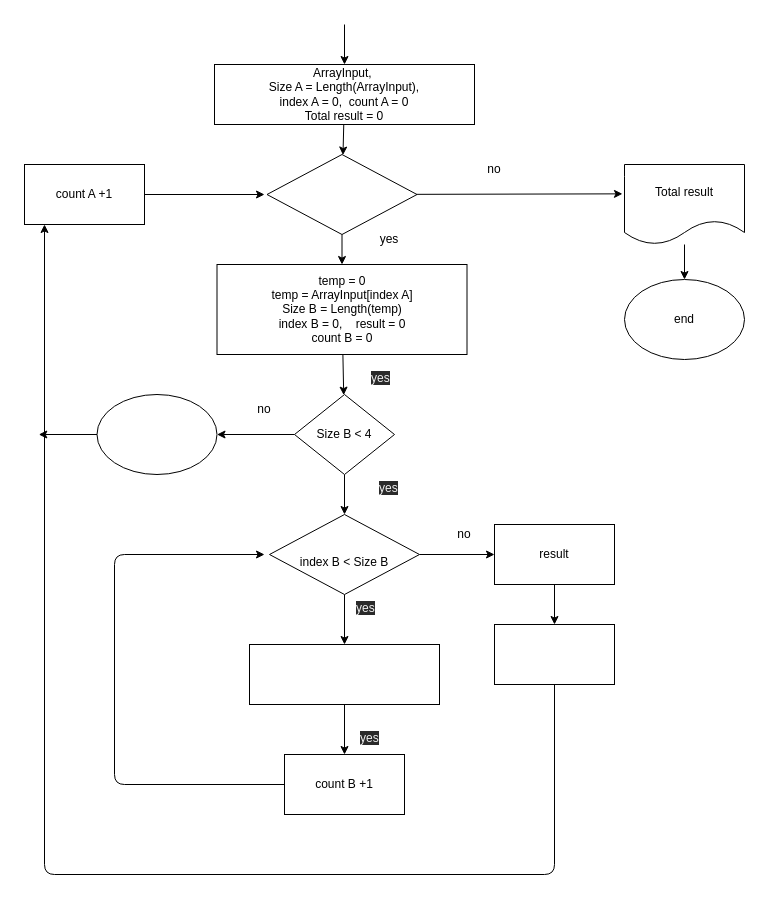
Some shapes in this 762 by 900 pixel diagram are drawn without their labels. The box of each missing label's shape, as (x1, y1, x2, y2) in pixels:
break: (96, 394, 217, 474)
index A < Size A: (266, 154, 417, 234)
result = result + temp[index B]: (248, 644, 440, 704)
Total result += result: (494, 624, 614, 684)
